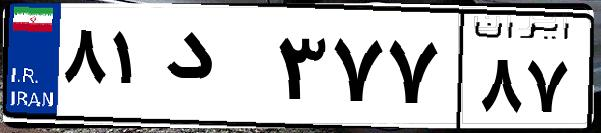1: (110, 28, 158, 98)
3: (270, 28, 330, 110)
7: (385, 28, 445, 110), (330, 28, 385, 110), (525, 38, 570, 115)
8: (57, 26, 110, 100), (475, 38, 525, 113)
د: (158, 20, 270, 120)
